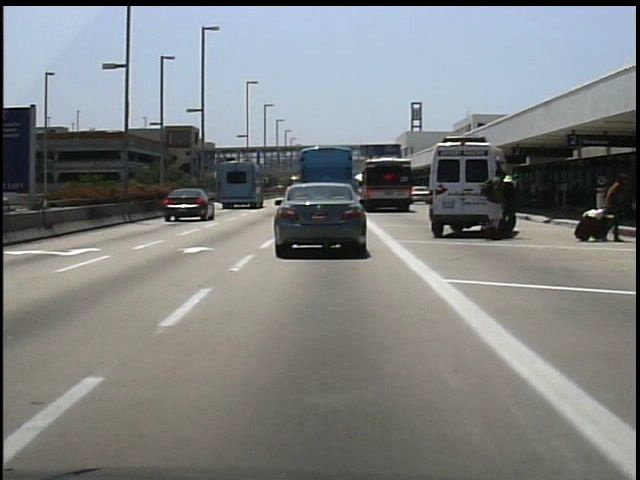person: (598, 167, 626, 245), (482, 167, 508, 241), (502, 173, 520, 239)
